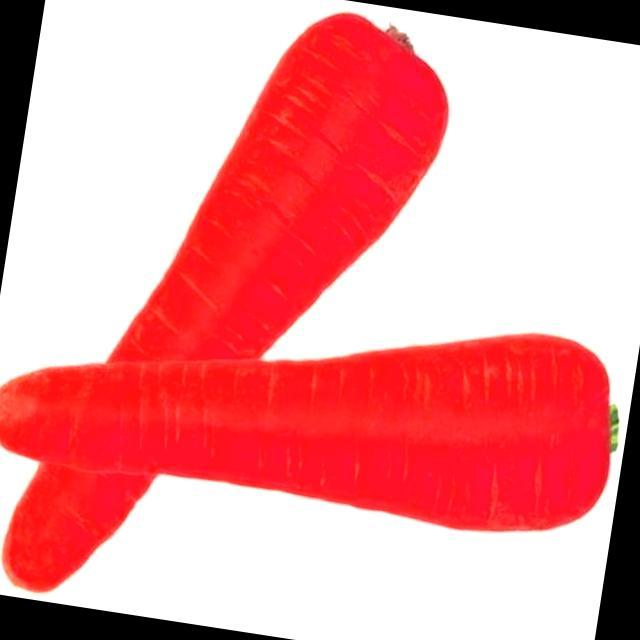carrot: (1, 14, 448, 594), (0, 335, 610, 529)
